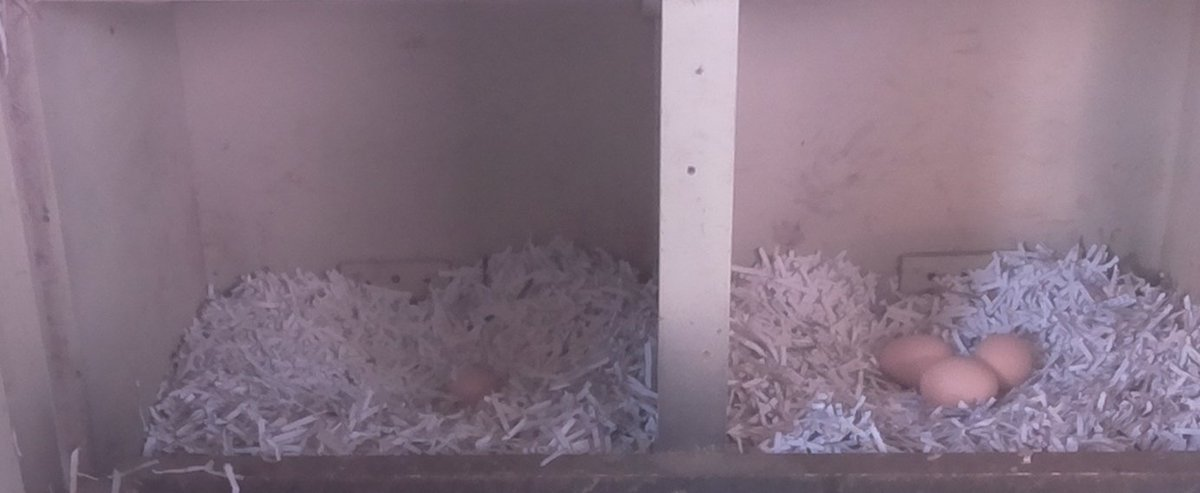egg: (917, 355, 1004, 412), (873, 331, 954, 388), (968, 330, 1038, 388), (442, 361, 503, 401)
